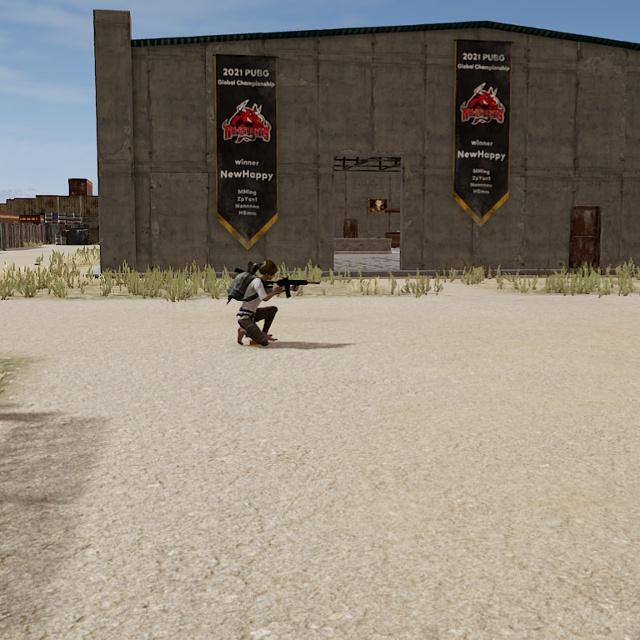head: (259, 259, 278, 281)
people: (235, 259, 282, 348)
